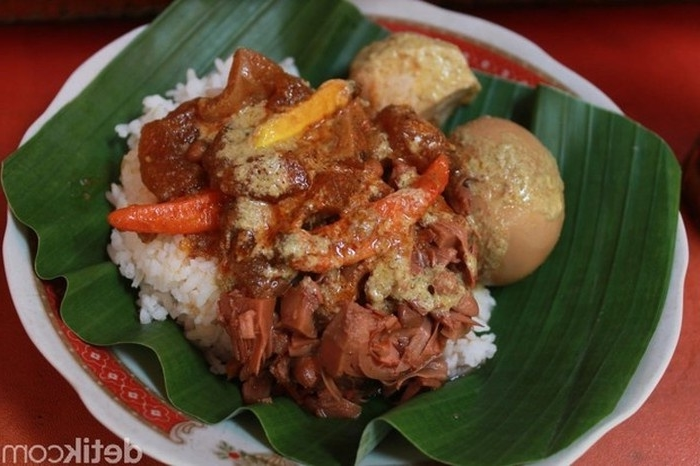gudeg: (107, 32, 568, 417)
